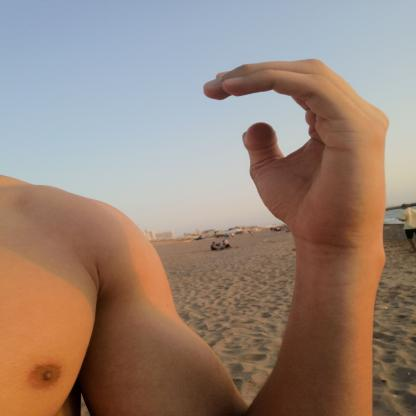JEEM: (183, 48, 408, 256)
